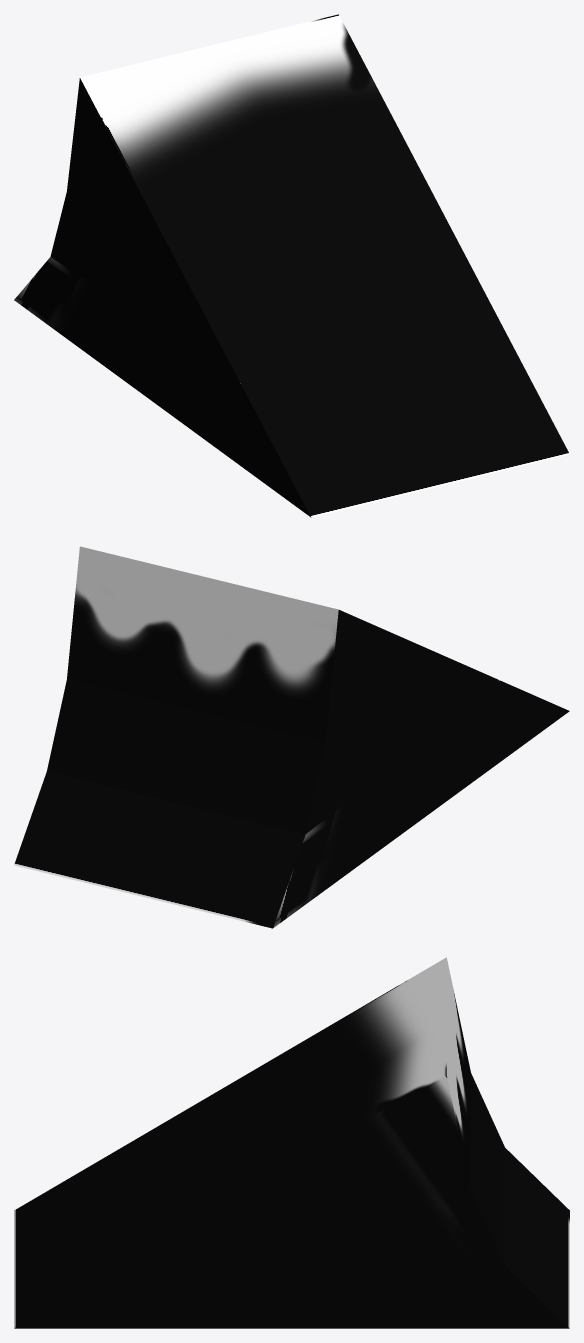
File: wave.gltf
3 views of the same model, one above another, from view 1: azimuth 30°, elevation 25°; view 2: azimuth 150°, elevation 25°; view 3: azimuth 270°, elevation 25° (orthographic). The views are drawn at different scales.
Visible parts, largest first — view 1: Cube; view 2: Cube; view 3: Cube.
Part boxes in pixels (bbox=[...]): Cube: bbox=[14, 14, 569, 517]; Cube: bbox=[14, 546, 569, 928]; Cube: bbox=[14, 957, 569, 1328].
Bounding box in the file's own units: 2.01 × 2 × 3.98.
1 material, 1 textured.
